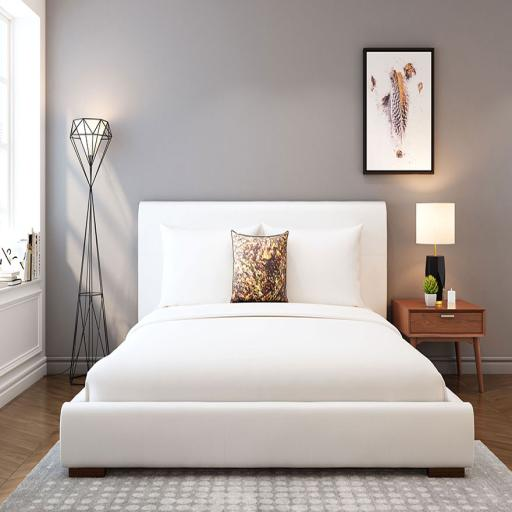bed: (60, 202, 474, 478)
